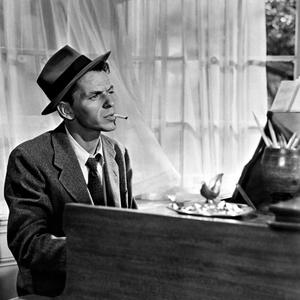cigarette: (111, 114, 130, 122)
